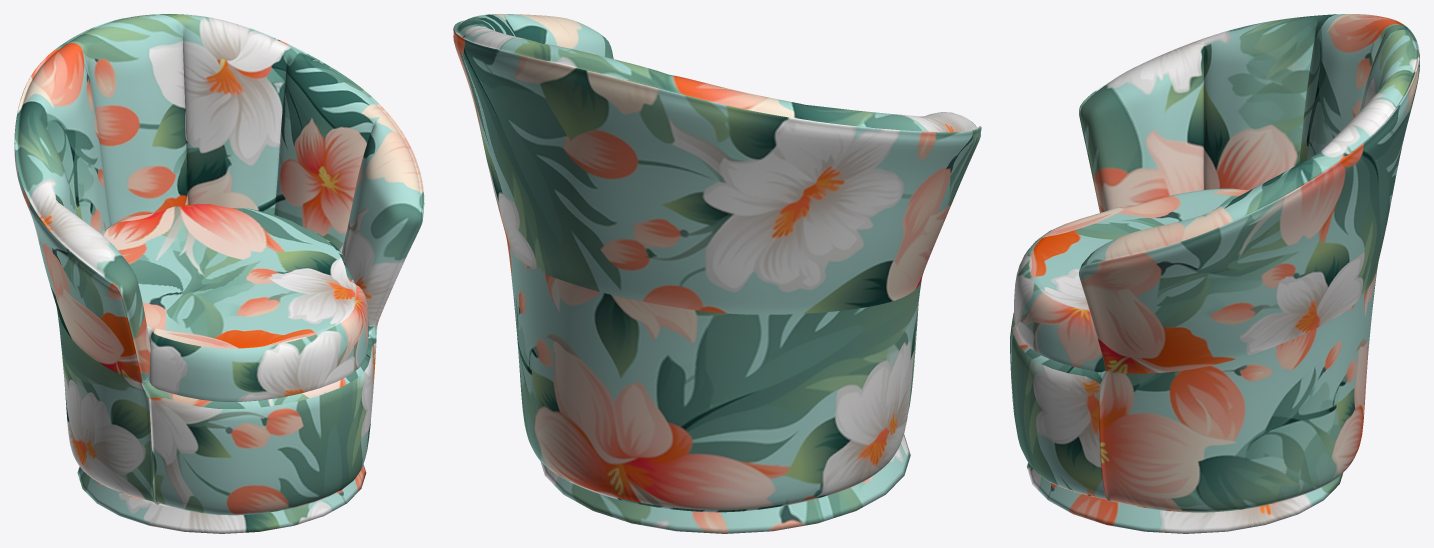
The model's file is new_third_peacock.glb.
3 renders of one model, left to right at view 1: azimuth 30°, elevation 25°; view 2: azimuth 150°, elevation 25°; view 3: azimuth 270°, elevation 25°, orthographic. The views are drawn at different scales.
Parts seen in each view (by area): view 1: g.002, g, g.001; view 2: g.002, g.001; view 3: g.002, g, g.001.
Part boxes in pixels (x1,y1,x2,y2): g.002: [14, 14, 424, 515]; g: [103, 204, 368, 401]; g.001: [77, 464, 366, 533]; g.002: [453, 14, 981, 512]; g.001: [540, 434, 910, 533]; g.002: [1010, 14, 1419, 512]; g: [1014, 188, 1249, 372]; g.001: [1026, 462, 1342, 533].
Bounding box in the file's own units: 1.99 × 2 × 1.77.
Materials: 1 (1 with a texture image).
